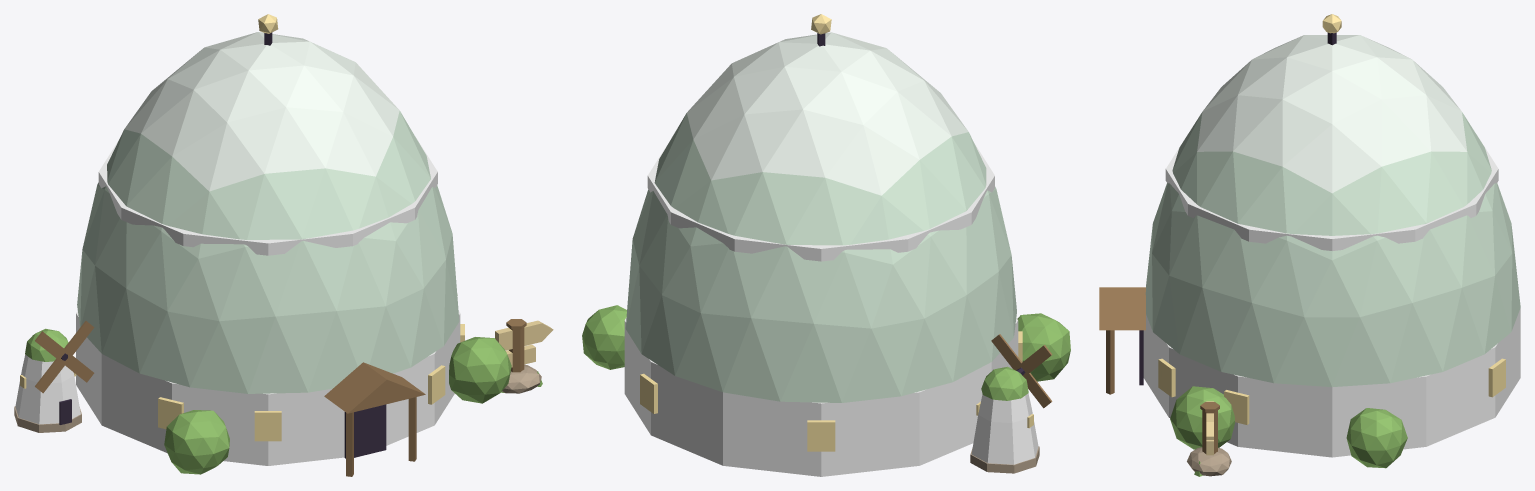
The model's file is meadow-landmark-s3.glb.
3 renders of one model, left to right at view 1: azimuth 30°, elevation 25°; view 2: azimuth 150°, elevation 25°; view 3: azimuth 270°, elevation 25°, orthographic. The views are drawn at different scales.
Visible parts, largest first — view 1: meadow-landmark-s3; view 2: meadow-landmark-s3; view 3: meadow-landmark-s3.
Part boxes in pixels (bbox=[...]): meadow-landmark-s3: bbox=[14, 14, 553, 476]; meadow-landmark-s3: bbox=[582, 14, 1070, 476]; meadow-landmark-s3: bbox=[1099, 14, 1520, 476].
Bounding box in the file's own units: 2.3 × 1.83 × 1.9.
